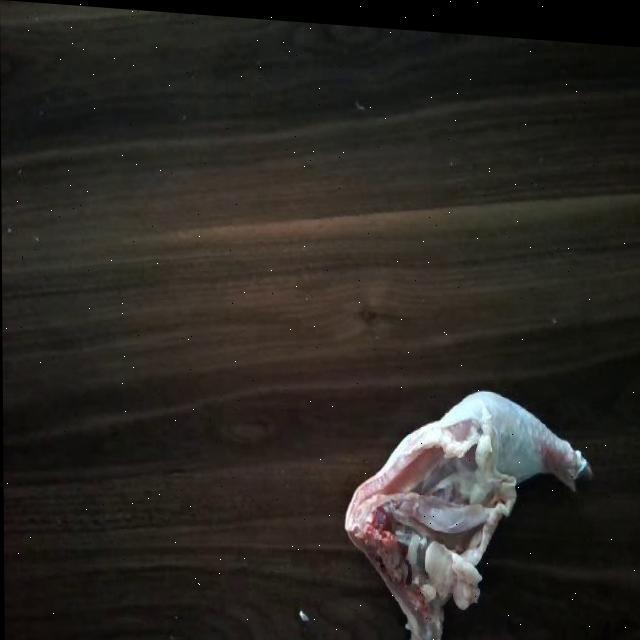quater: (360, 370, 594, 640)
